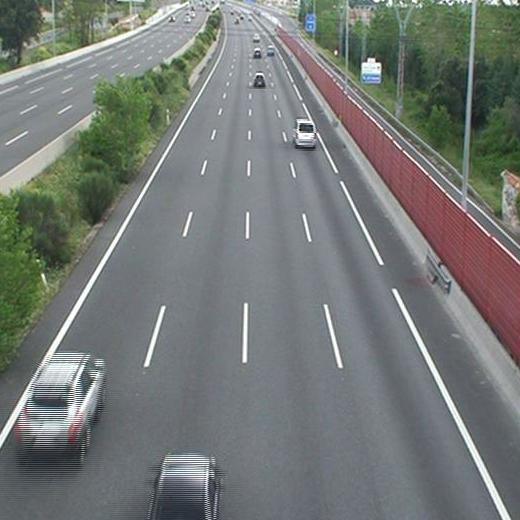car: (17, 353, 105, 447), (294, 120, 316, 148), (254, 73, 266, 87), (266, 45, 276, 56), (253, 48, 261, 56), (252, 33, 259, 42)
